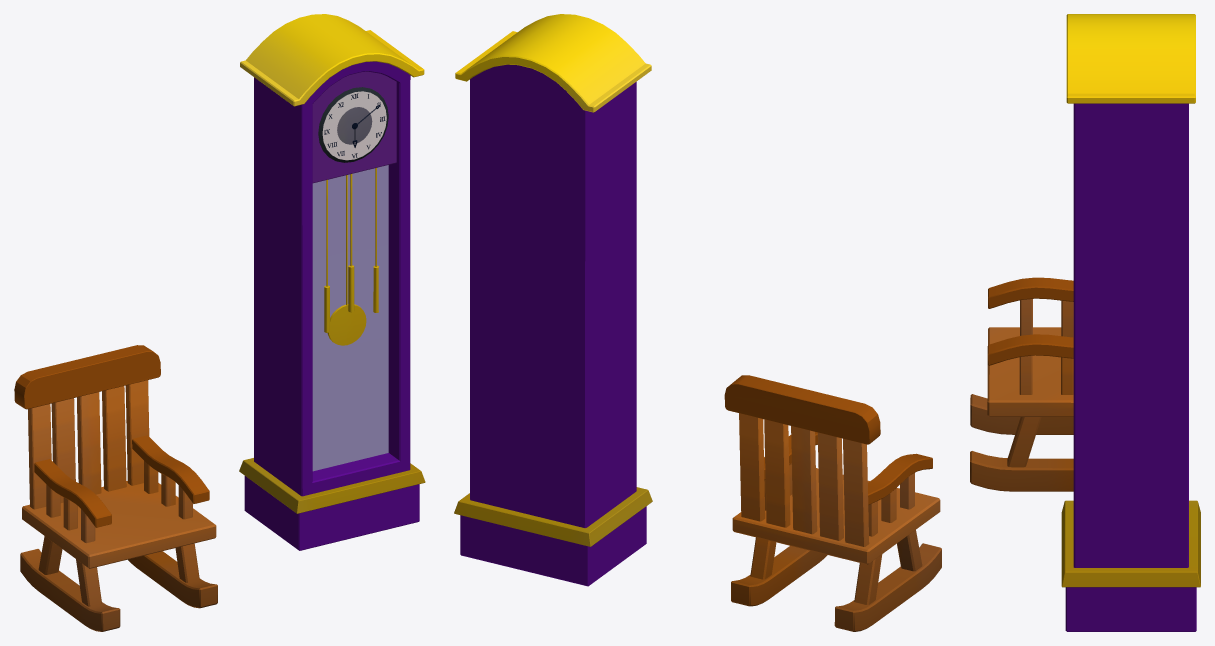
Rendered from long clock & chair.fbx.
3 views of the same model, side by side, from view 1: azimuth 30°, elevation 25°; view 2: azimuth 150°, elevation 25°; view 3: azimuth 270°, elevation 25° (orthographic). The views are drawn at different scales.
Visible parts, largest first — view 1: Long clock, Chair; view 2: Long clock, Chair; view 3: Long clock, Chair.
Boxes of the visible parts, left/top/right/bottom form: Long clock: left=239, top=14, right=425, bottom=550; Chair: left=14, top=345, right=217, bottom=631; Long clock: left=454, top=14, right=652, bottom=586; Chair: left=724, top=375, right=941, bottom=631; Long clock: left=1061, top=14, right=1200, bottom=631; Chair: left=970, top=277, right=1073, bottom=491.
Size of the model in its own units: 205 by 253 by 92.16.
